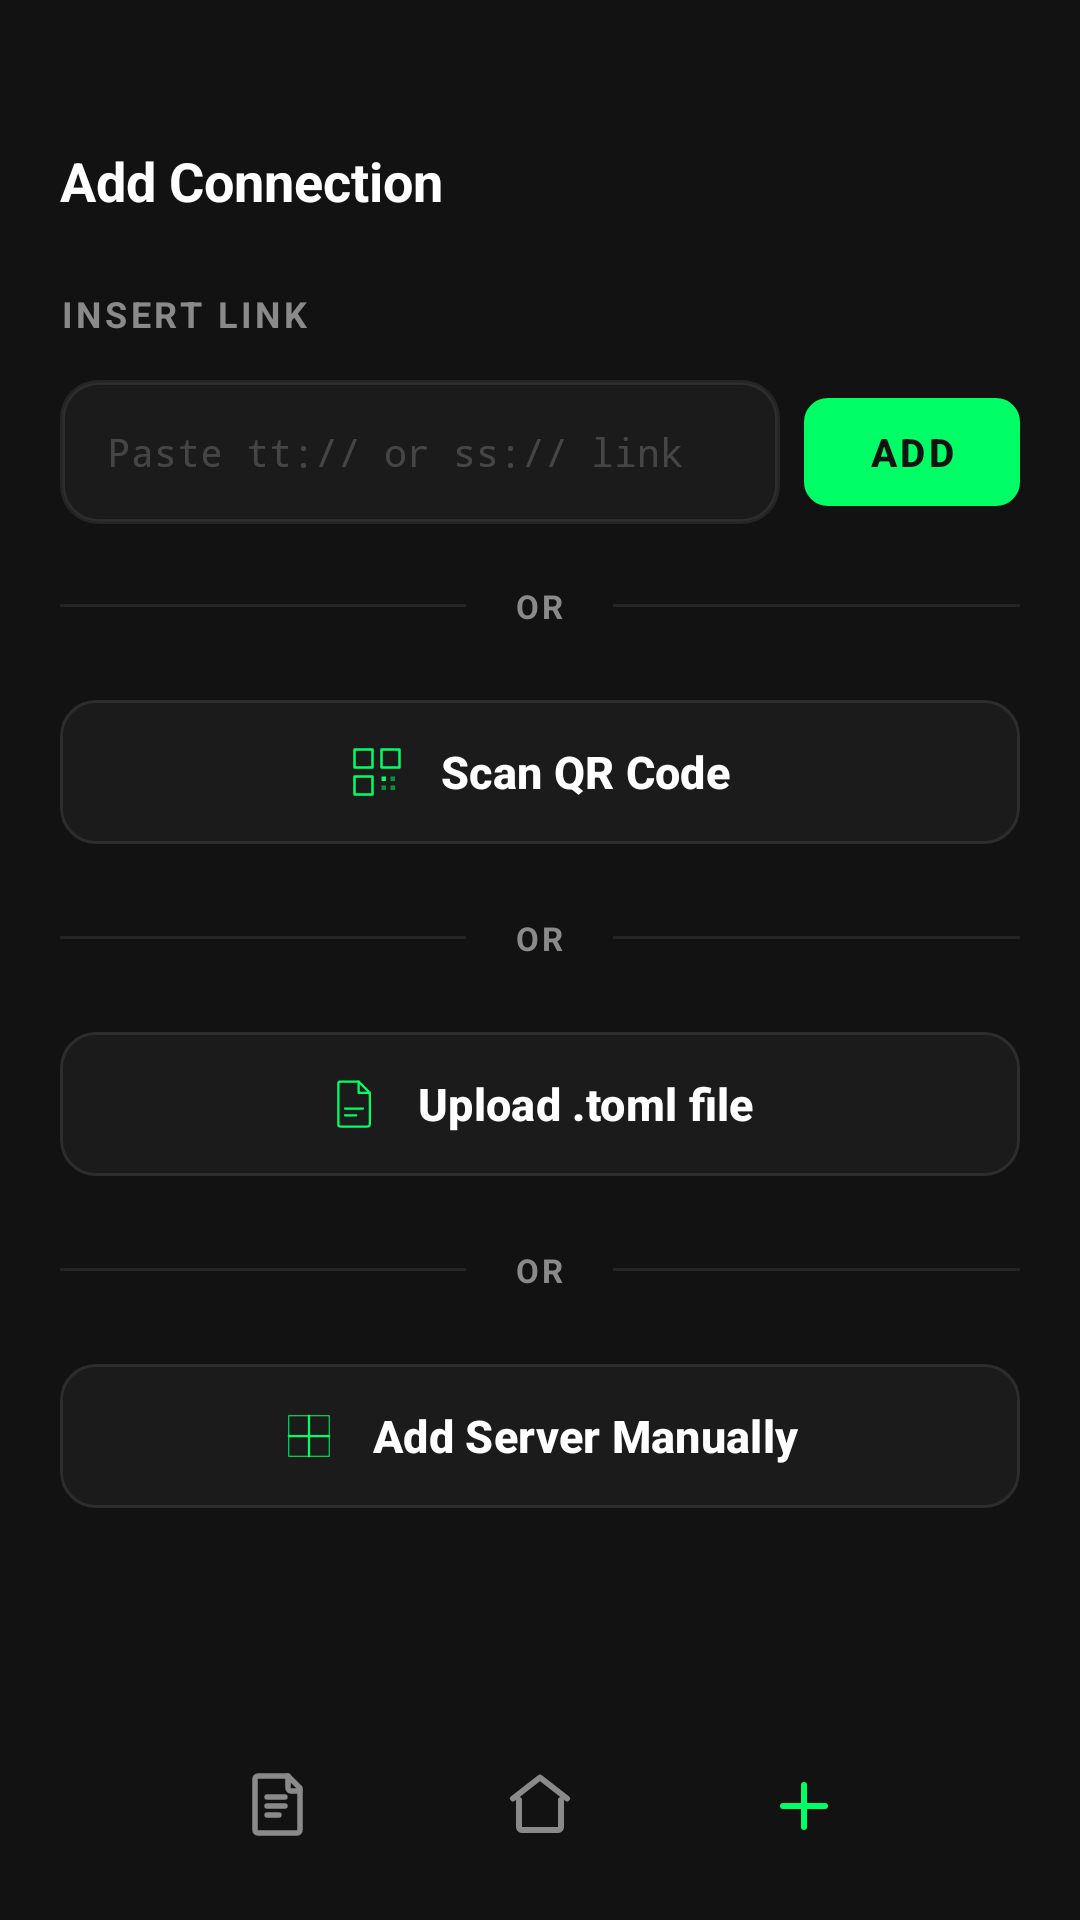

Named icons in this screenshot (1080px x 1920px) and their bounding boxes, [x1=x1, y1=y1, x2=x2, y2=y2]:
Add server: [x1=780, y1=1782, x2=828, y2=1830]
Home: [x1=510, y1=1774, x2=570, y2=1833]
Query log: [x1=252, y1=1773, x2=303, y2=1836]
